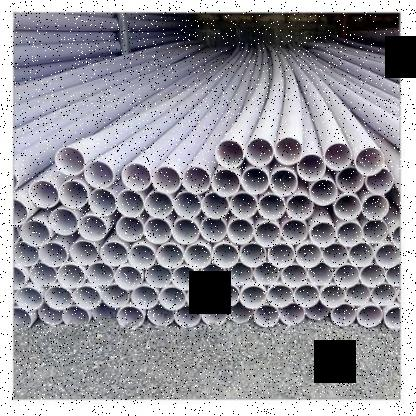pipe: (58, 180, 89, 210), (54, 146, 84, 176), (29, 180, 59, 209), (151, 166, 181, 194), (324, 143, 353, 171), (355, 148, 384, 176), (309, 178, 338, 206), (84, 161, 114, 188), (274, 137, 302, 165), (245, 138, 273, 166), (215, 140, 243, 168), (182, 166, 210, 194), (116, 190, 144, 218), (200, 192, 228, 220), (88, 189, 116, 216), (297, 154, 326, 180), (49, 209, 78, 235), (21, 220, 50, 246), (122, 164, 150, 190), (336, 167, 364, 193), (241, 168, 269, 194), (366, 168, 394, 194), (270, 170, 298, 196), (212, 170, 240, 196), (174, 192, 202, 218), (145, 192, 173, 218), (230, 192, 258, 218), (258, 194, 286, 220), (286, 194, 314, 220), (334, 195, 362, 221), (78, 216, 106, 242), (226, 219, 254, 245), (172, 219, 200, 245), (114, 266, 143, 291), (38, 242, 68, 266), (144, 218, 171, 244), (116, 217, 144, 242), (128, 245, 156, 270), (86, 262, 115, 286), (14, 287, 43, 311), (362, 196, 390, 220), (254, 223, 282, 247), (70, 241, 98, 265), (100, 242, 128, 266), (322, 244, 350, 268), (156, 244, 184, 268), (58, 264, 86, 288), (102, 284, 130, 308), (44, 286, 72, 310), (282, 220, 308, 245), (200, 218, 227, 242), (337, 223, 364, 247), (239, 244, 266, 268), (268, 244, 295, 268), (212, 244, 239, 268), (184, 244, 211, 268), (145, 264, 172, 288), (294, 284, 321, 308), (186, 286, 213, 310), (30, 263, 58, 286), (131, 286, 159, 309), (73, 286, 101, 309), (14, 241, 39, 266), (310, 223, 336, 247), (296, 244, 322, 268), (374, 244, 400, 268), (308, 262, 334, 286), (226, 262, 252, 286), (334, 264, 360, 288), (213, 284, 240, 307), (159, 287, 186, 310), (116, 306, 144, 328), (349, 242, 374, 266), (362, 221, 388, 244), (360, 265, 386, 288), (172, 267, 198, 290), (240, 286, 266, 309), (254, 304, 280, 327), (281, 265, 308, 287), (266, 286, 294, 307), (372, 284, 398, 306), (346, 284, 372, 306), (254, 263, 281, 284), (63, 306, 90, 327), (38, 303, 63, 325), (200, 265, 226, 286), (320, 286, 346, 307), (331, 304, 357, 325), (148, 304, 174, 325), (201, 304, 227, 325), (357, 306, 383, 327), (175, 306, 201, 327), (280, 303, 305, 324), (228, 303, 253, 323), (14, 306, 33, 332), (305, 300, 330, 319), (92, 303, 118, 321), (13, 198, 28, 226), (385, 307, 401, 329), (386, 265, 400, 287), (391, 225, 401, 248)
